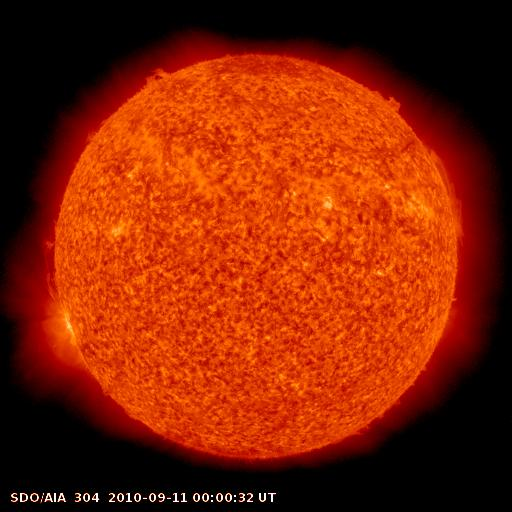prominence: (417, 138, 469, 255), (29, 230, 73, 307), (362, 74, 406, 120), (81, 102, 119, 150), (136, 57, 176, 90)
